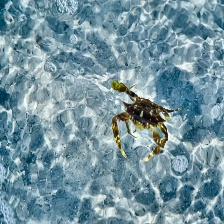crab: (110, 81, 178, 163)
